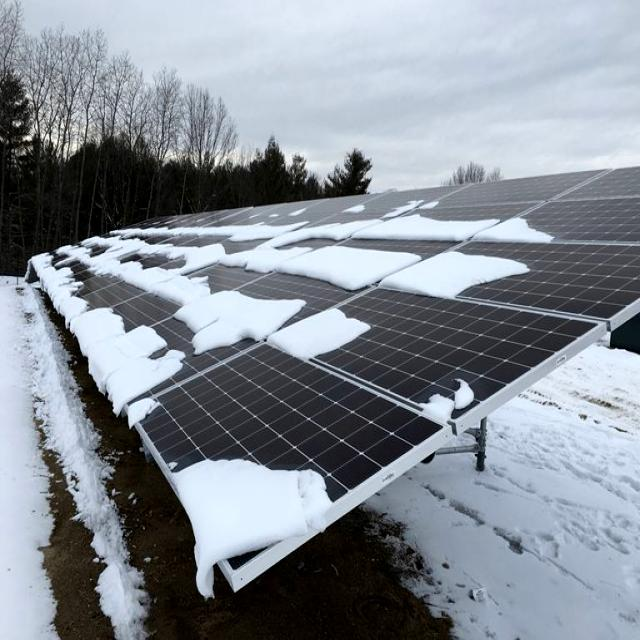panel: (169, 436, 343, 578), (86, 288, 192, 394), (186, 290, 269, 372), (123, 221, 228, 283), (272, 300, 381, 356), (246, 210, 316, 288), (378, 256, 467, 315), (310, 186, 390, 248), (414, 366, 486, 430), (401, 215, 506, 258), (302, 244, 377, 300), (27, 242, 94, 302), (486, 210, 558, 264), (80, 222, 136, 282), (402, 188, 447, 226)
